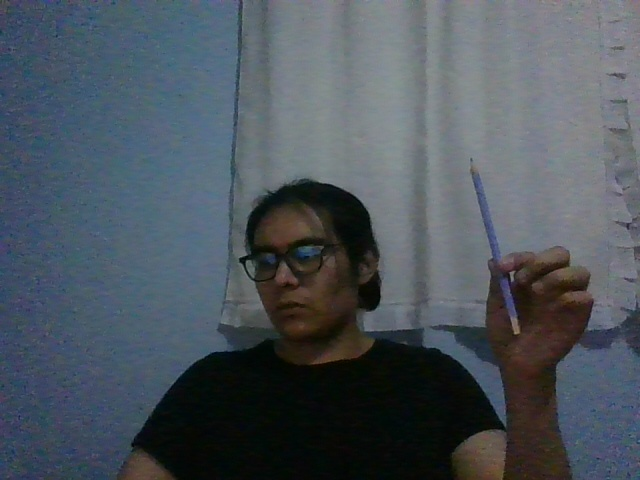lapiz: (468, 157, 521, 335)
